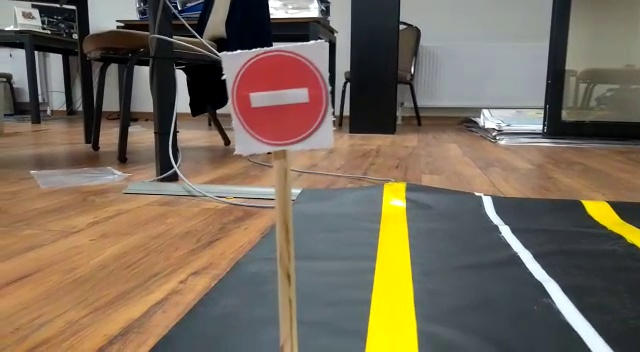girisi_olmayan_yol: (226, 49, 329, 144)
